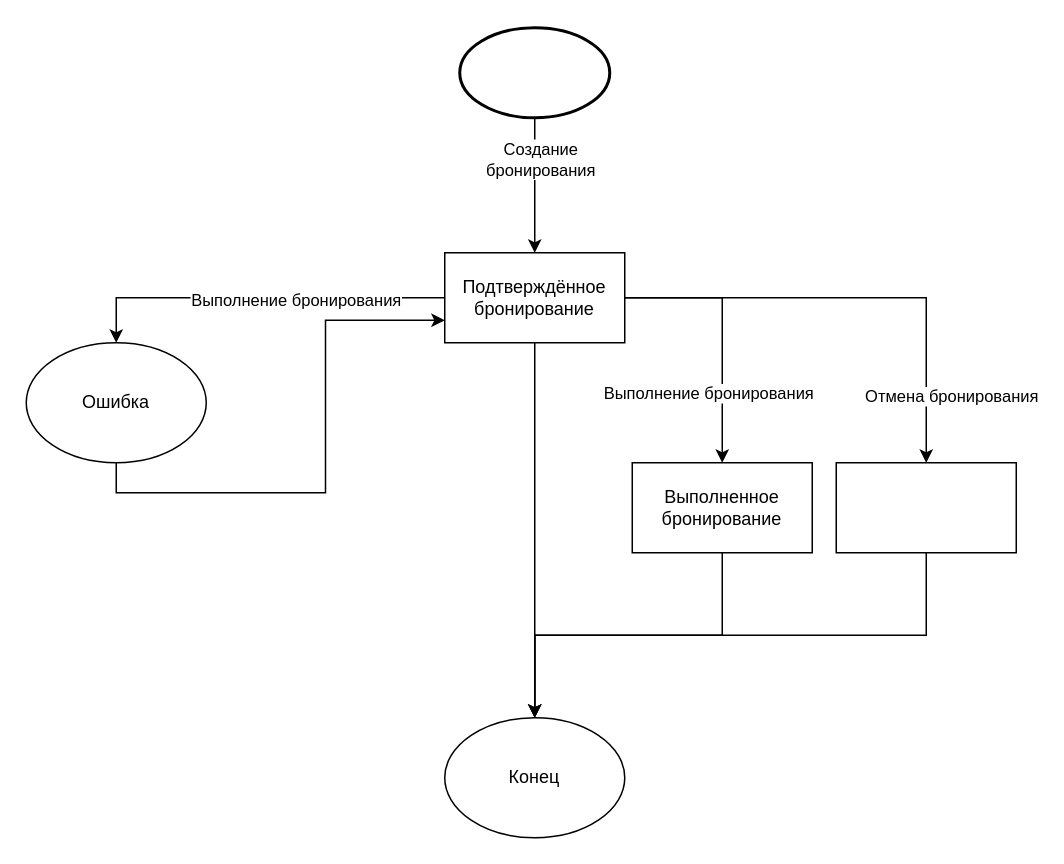
Some shapes in this 1064 by 864 pixel diagram are drawn without their labels. Each missing label, with the centre of its shape:
"Начало" belongs at (x=534, y=72).
"Отменённое бронирование" belongs at (x=925, y=507).
